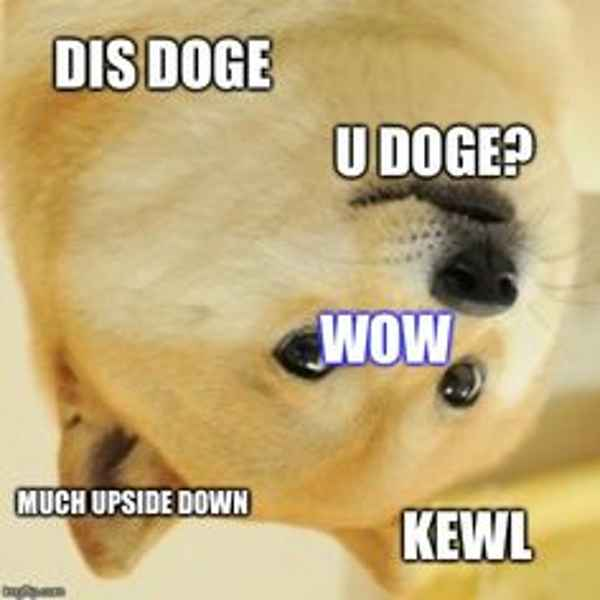doge: (24, 55, 581, 550)
